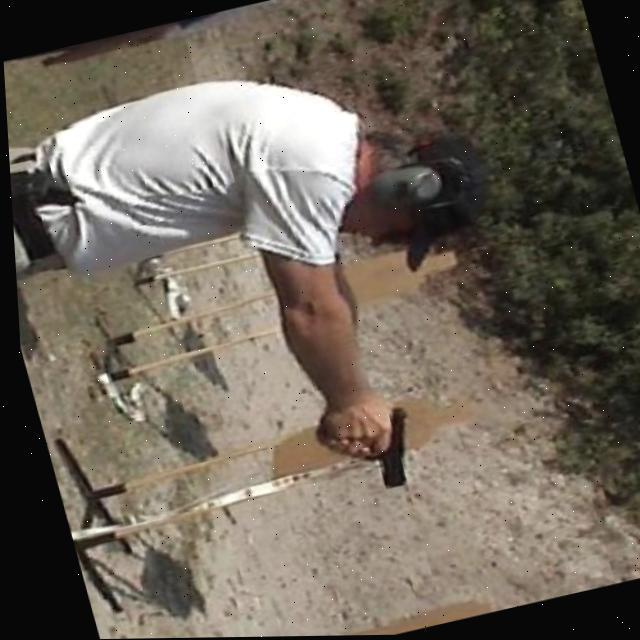gun: (312, 400, 420, 500)
